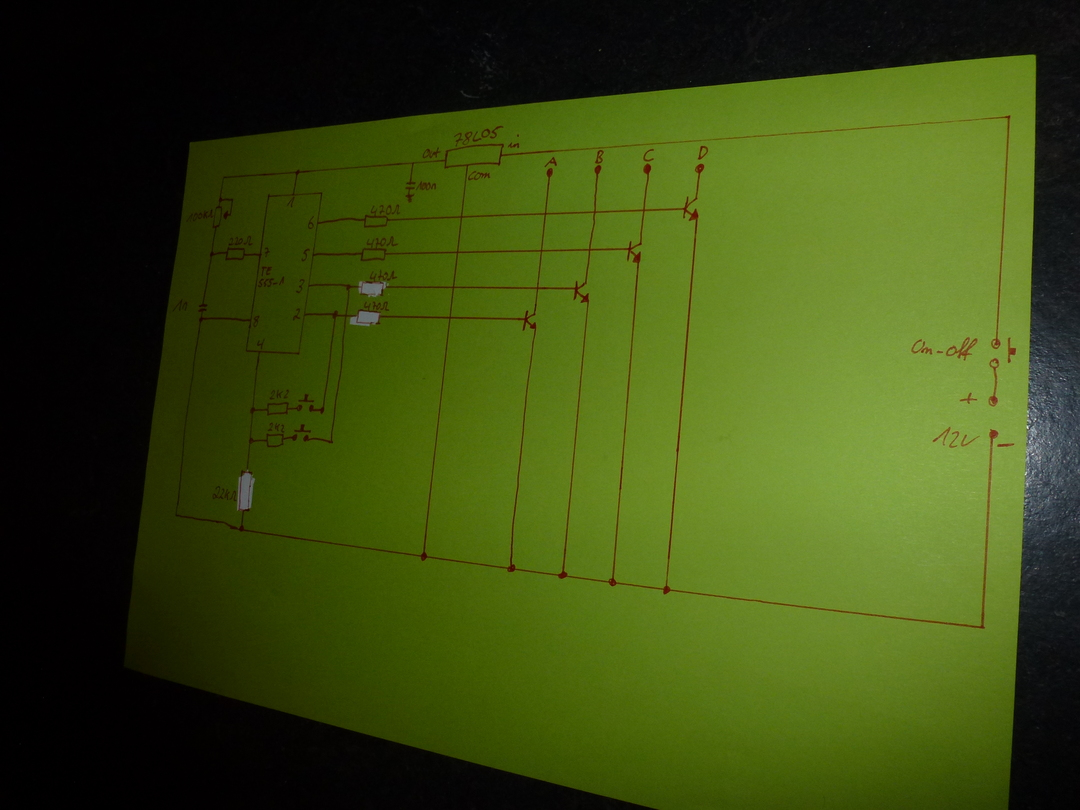capacitor.unpolarized: (196, 301, 209, 314), (404, 179, 416, 191)
crossover: (639, 205, 649, 216), (585, 245, 595, 255), (590, 207, 600, 217), (541, 209, 551, 219), (446, 313, 456, 323), (533, 283, 542, 293), (537, 246, 546, 256), (457, 212, 467, 221), (453, 248, 462, 257), (342, 312, 349, 320), (450, 284, 457, 292)
gnd: (403, 193, 416, 203)
integrated_cricuit.ne555: (244, 190, 323, 356)
junction: (606, 575, 619, 589), (556, 569, 570, 581), (661, 583, 673, 596), (506, 563, 518, 574), (418, 550, 428, 563), (236, 523, 246, 535), (329, 309, 339, 321), (977, 622, 988, 632), (343, 282, 353, 293), (1004, 112, 1014, 122), (172, 510, 181, 520), (247, 436, 256, 446), (318, 405, 326, 416), (326, 436, 335, 445), (208, 249, 216, 258), (293, 168, 302, 176), (248, 406, 256, 415), (197, 315, 205, 323), (228, 196, 236, 203), (216, 195, 223, 203), (220, 174, 227, 181), (409, 160, 417, 166)
resistor: (238, 468, 254, 512), (354, 308, 382, 327), (359, 280, 386, 298), (359, 247, 387, 263), (362, 214, 389, 229), (264, 401, 290, 416), (224, 246, 247, 262), (264, 432, 286, 448)
resistor.adjustable: (212, 205, 234, 228)
switch: (987, 335, 1019, 370), (290, 423, 313, 444), (295, 393, 316, 414)
terminal: (987, 391, 1000, 409), (986, 427, 1000, 441), (694, 162, 707, 175), (642, 162, 654, 176), (593, 164, 605, 177), (545, 167, 555, 179)
text: (910, 336, 978, 361), (453, 125, 504, 147), (932, 426, 980, 449), (256, 265, 286, 289), (211, 484, 237, 502), (186, 209, 214, 223), (366, 236, 397, 248), (370, 204, 401, 215), (369, 269, 397, 281), (228, 234, 253, 247), (363, 300, 390, 312), (468, 170, 491, 182), (416, 180, 438, 192), (268, 388, 290, 400), (421, 146, 441, 159), (173, 297, 189, 313), (267, 421, 286, 433), (697, 144, 709, 161), (642, 147, 655, 162), (294, 278, 306, 294), (507, 134, 520, 148), (291, 307, 303, 322), (300, 248, 311, 263), (544, 156, 558, 167), (306, 215, 316, 230), (251, 315, 262, 328), (594, 150, 604, 164), (256, 338, 266, 351), (286, 196, 296, 209), (262, 245, 271, 258)
transistor: (681, 195, 702, 222), (625, 238, 644, 265), (572, 278, 591, 305), (520, 309, 538, 332)
voltage.dc_regulator: (443, 144, 504, 169)
